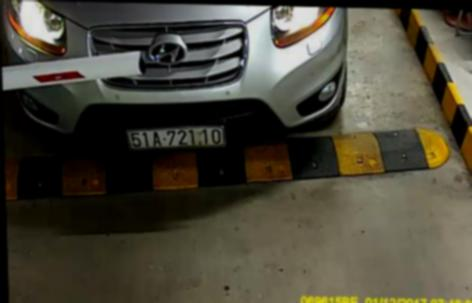License_Plate: (118, 123, 230, 152)
